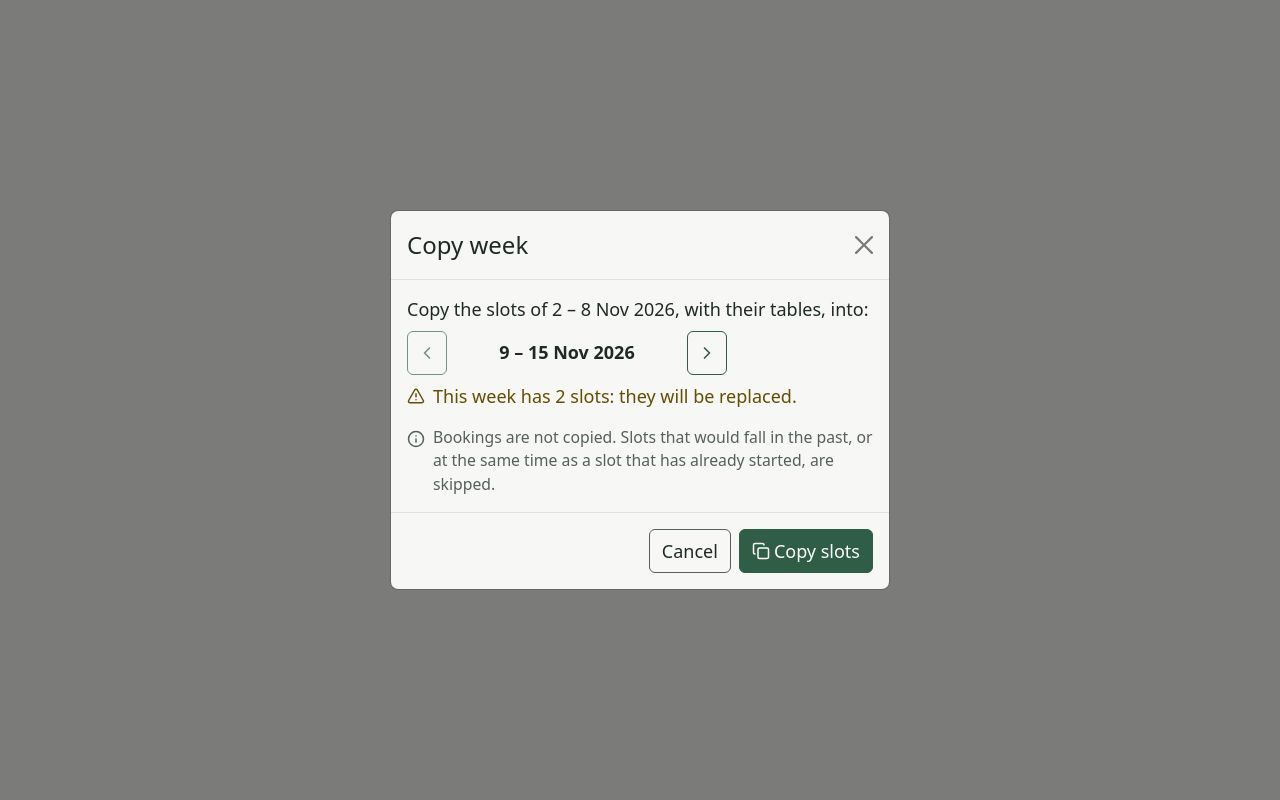
Test: CopyWeekDialog › warns how many slots of the target week will be replaced, counting only those not started
Check: the text "This week has 2 slots: they will be replaced." is shown, box [407,384,797,408]
Click the button named "Next week" at (707, 353), box [687,331,727,375]
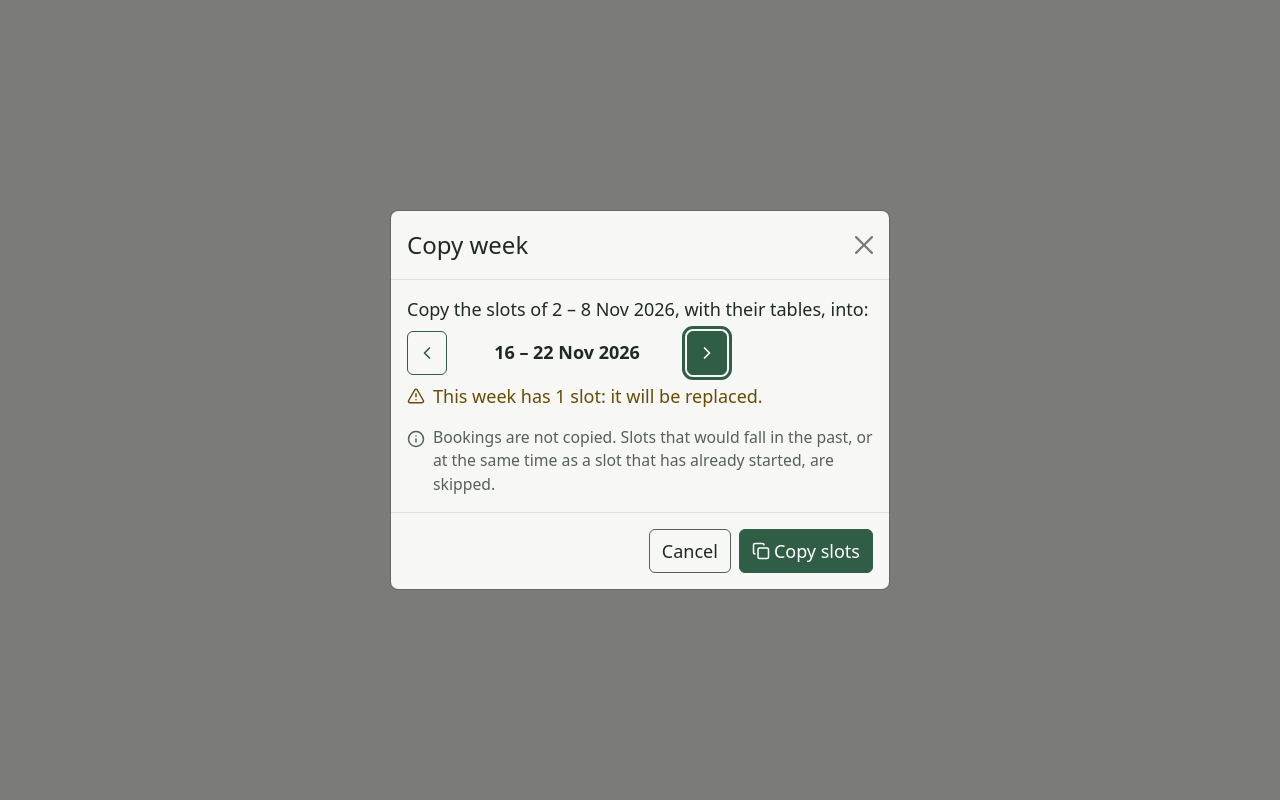
Check: the text "This week has 1 slot: it will be replaced." is shown, box [407,384,763,408]
Click the button named "Next week" at (707, 353), box [687,331,727,375]
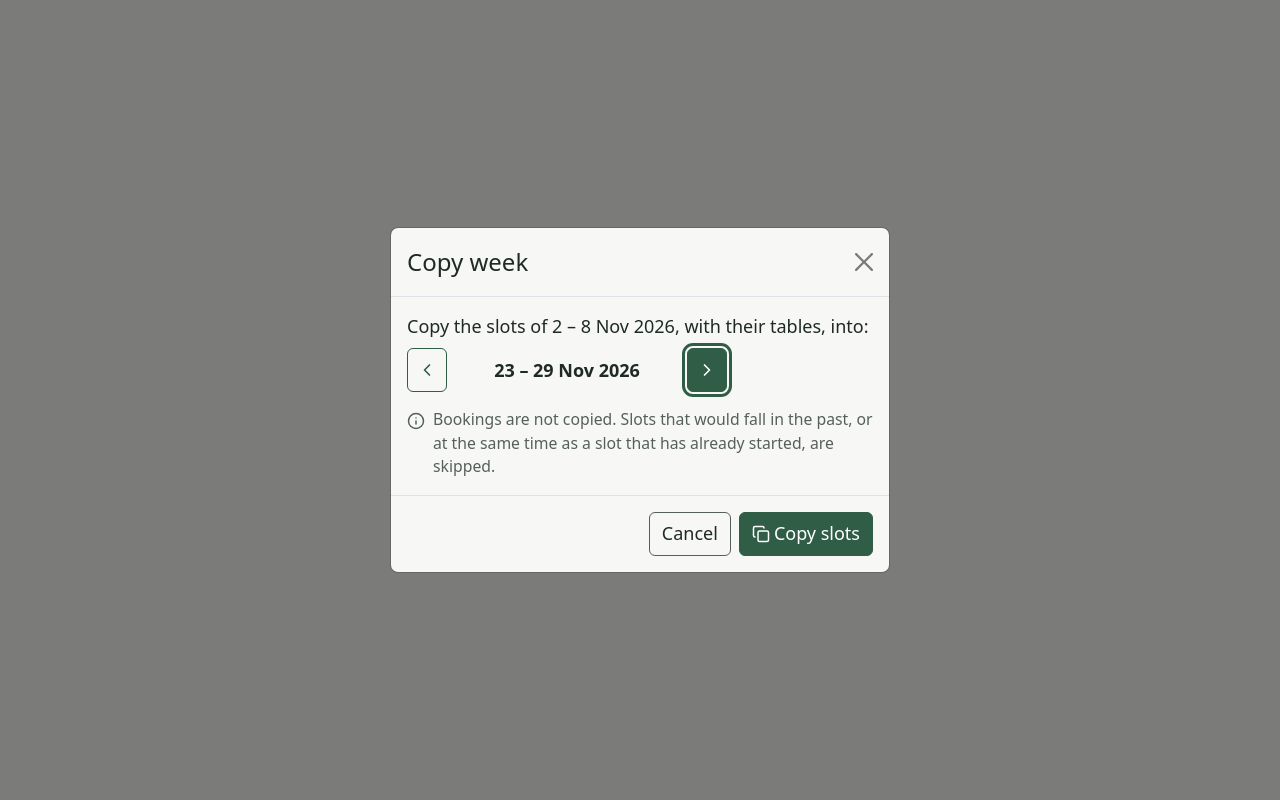
Check: the text "will be replaced" is gone
